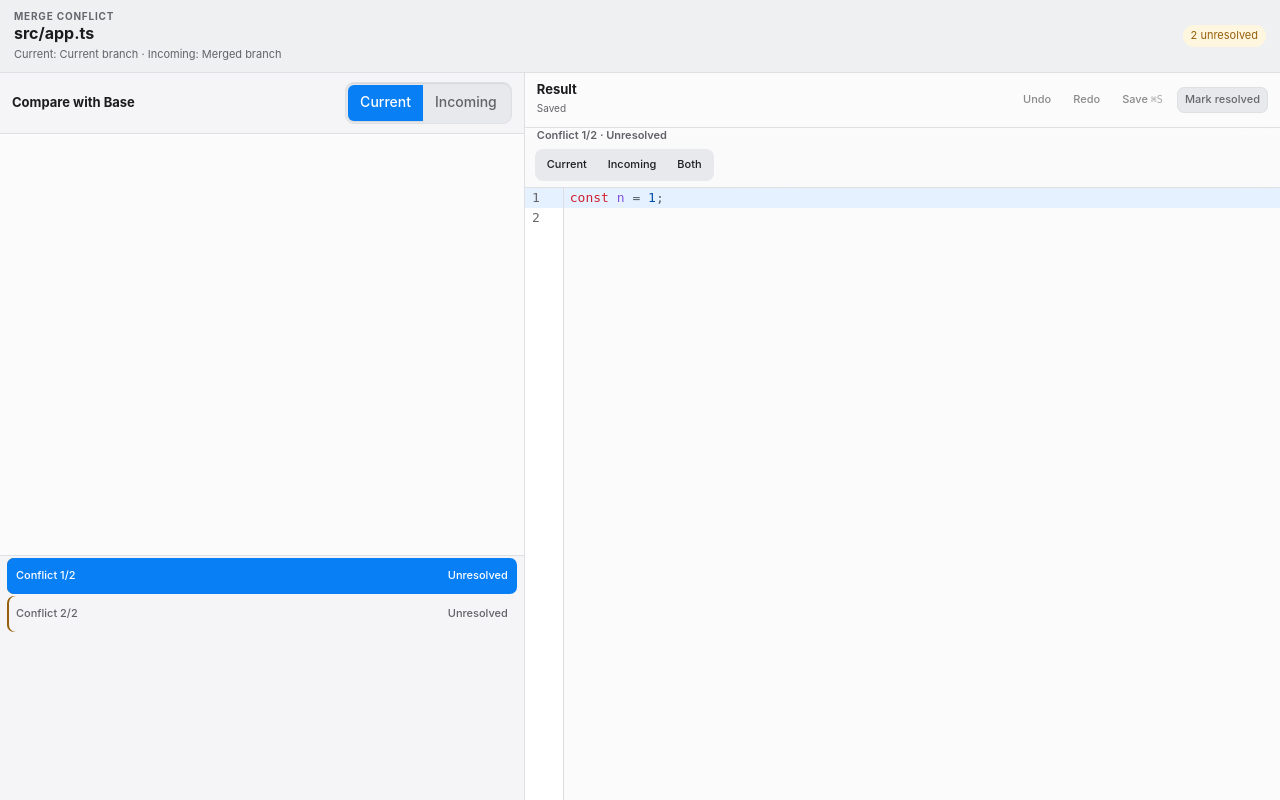
it: ConflictSurface › shows one fixed resolution group for the selected conflict block
Expected: the number of elements "Conflict 1/2 · Unresolved Current Incoming Both" is 1, 525,128 -> 1279,188
Expected: the button with aria-label "Apply current to conflict 1" reads "Current", 537,152 -> 597,180
Click the button "Conflict 2/2 Unresolved" at (47, 613), box 7,596 -> 517,632
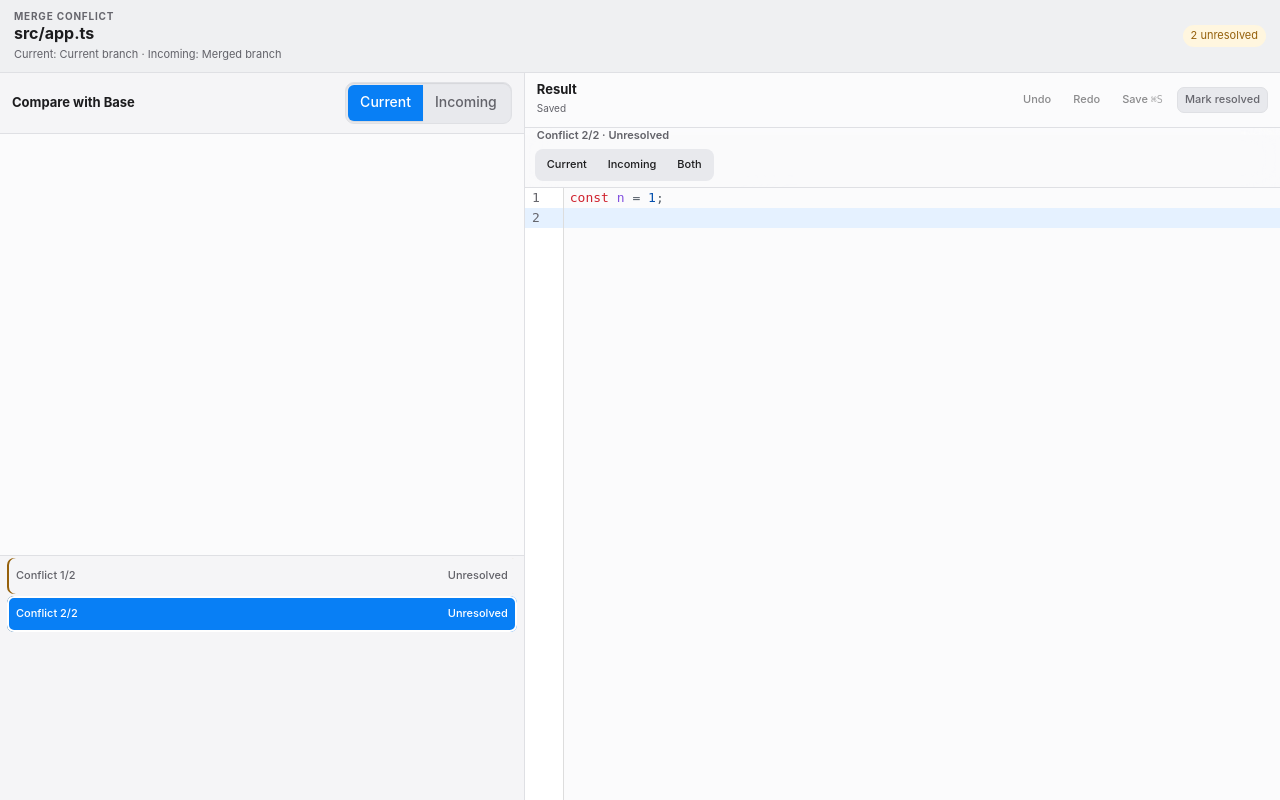
Expected: the button with aria-label "Apply current to conflict 2" reads "Current", 537,152 -> 597,180
Now the element named "Resolution options for conflict 2" is shown, box 525,128 -> 1279,188
